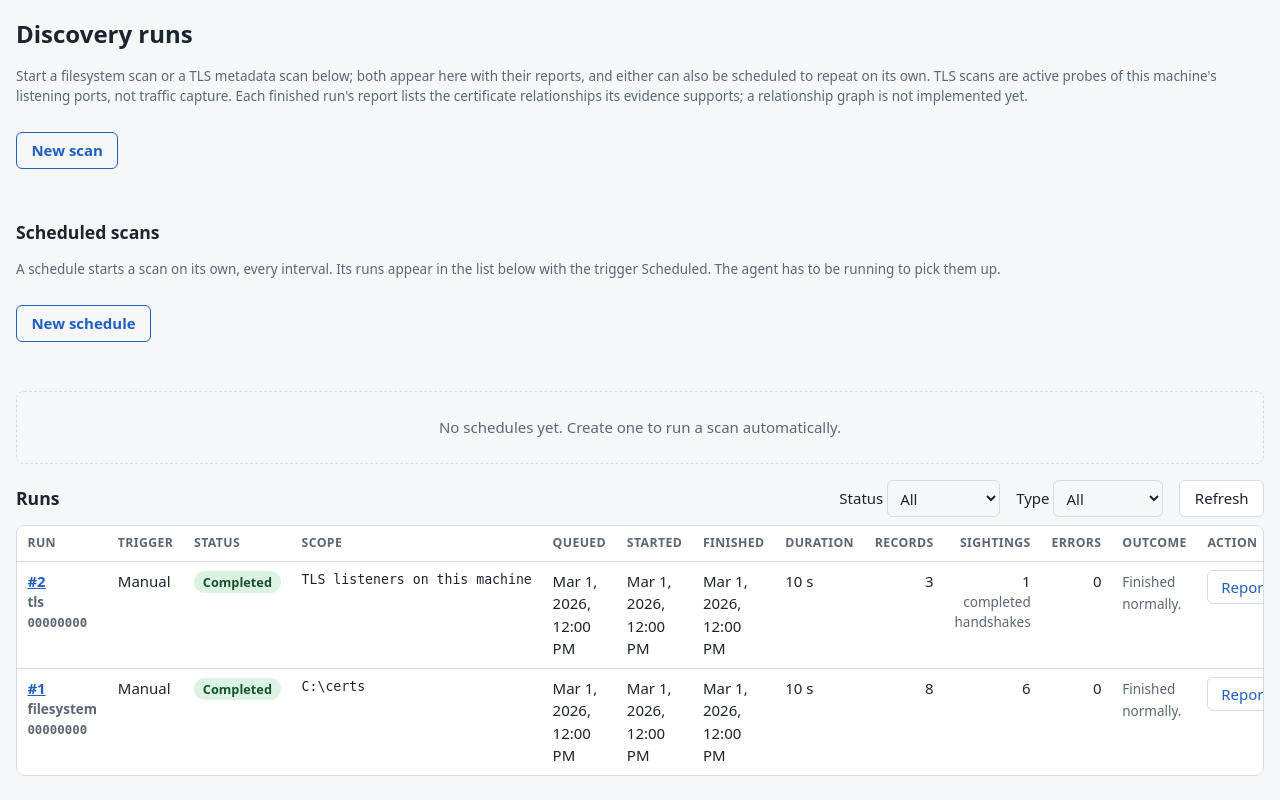
it: starting a TLS scan from the Runs page › lists TLS and filesystem runs together, and the Type filter separates them
Expected: the table is shown, left=17, top=526, right=1264, bottom=775
Expected: the text "filesystem" is shown, left=27, top=699, right=97, bottom=720
Select "tls" in the dropdown labelled "Type" at point(1108, 499), box left=1054, top=480, right=1164, bottom=517
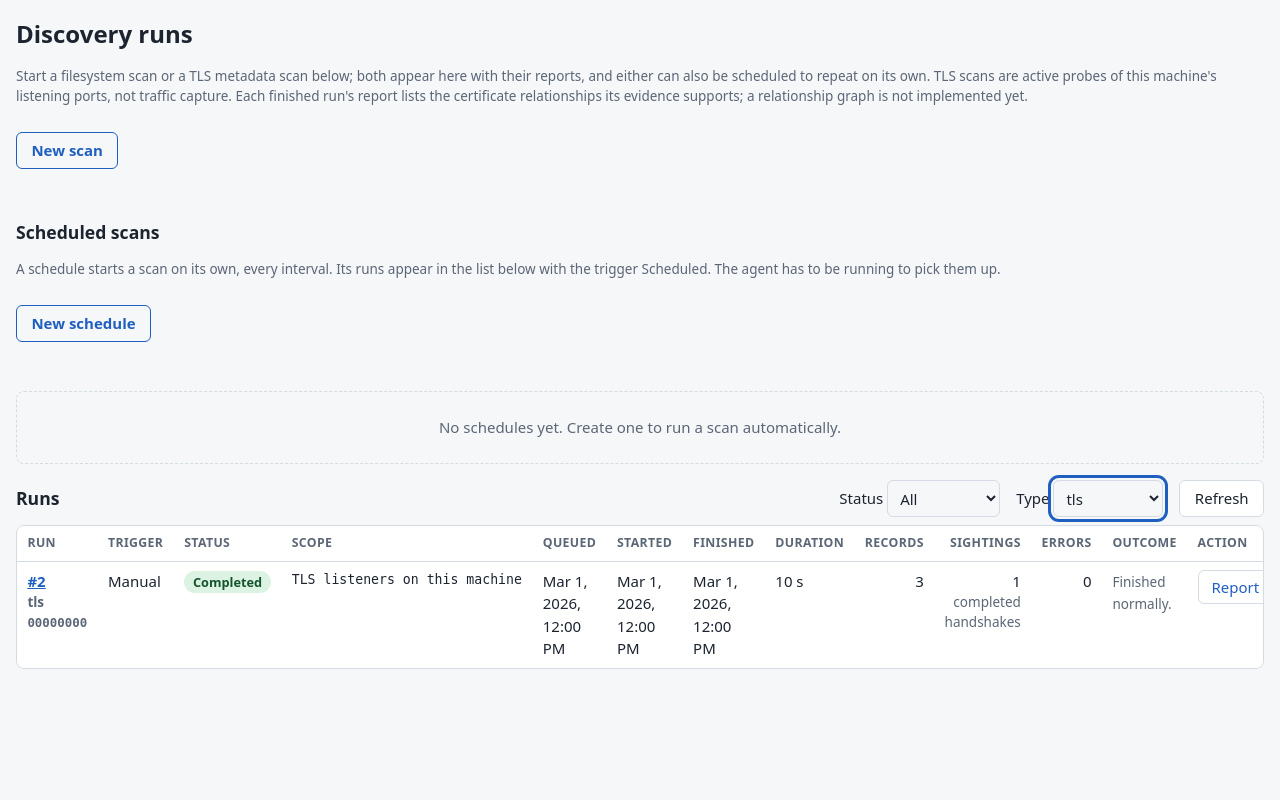
Expected: the link "#1" is gone
